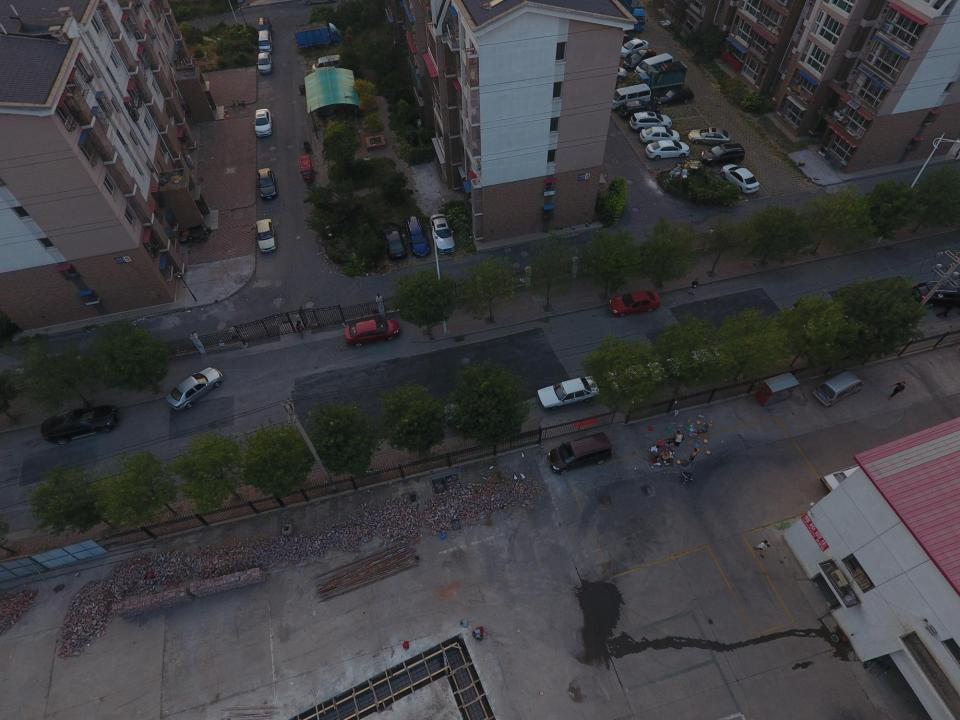car: (40, 405, 119, 446), (165, 367, 223, 411), (536, 376, 600, 410), (813, 369, 864, 407), (344, 319, 399, 347), (608, 290, 660, 317), (911, 280, 960, 308), (720, 164, 760, 194), (700, 142, 745, 168), (404, 216, 430, 258), (380, 222, 408, 260), (430, 214, 456, 254), (629, 111, 672, 133), (688, 127, 731, 148), (646, 140, 689, 160), (618, 100, 658, 121), (255, 218, 278, 254), (640, 126, 680, 145), (653, 88, 694, 106), (623, 50, 657, 70), (257, 168, 278, 199), (619, 39, 649, 58), (253, 109, 272, 136), (256, 52, 272, 74), (256, 17, 272, 37)
truck: (632, 60, 688, 95), (293, 21, 341, 51), (618, 0, 648, 32)
van: (544, 432, 614, 474), (607, 83, 651, 109), (634, 53, 673, 78), (312, 55, 343, 74), (257, 31, 273, 54)
